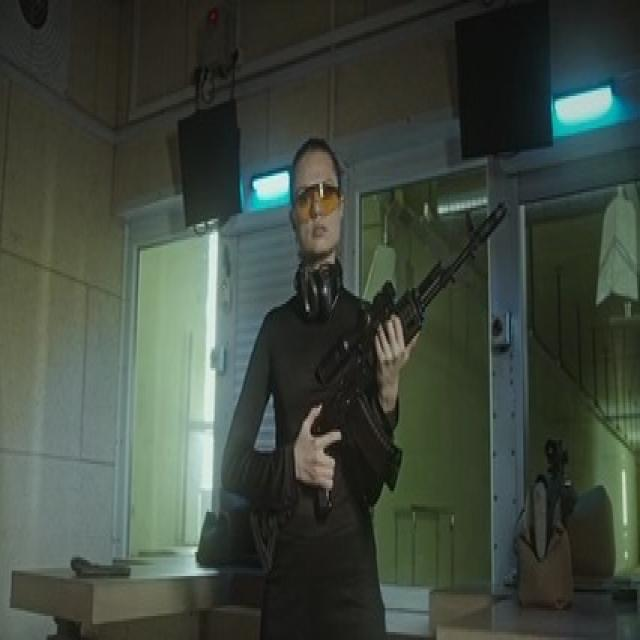Gun_Holder: (266, 197, 500, 518)
Person: (220, 129, 410, 640)
